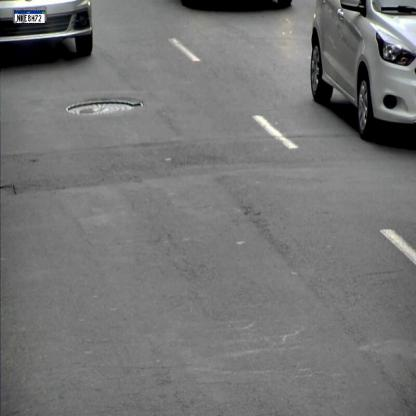PlacaM: (14, 10, 45, 24)
